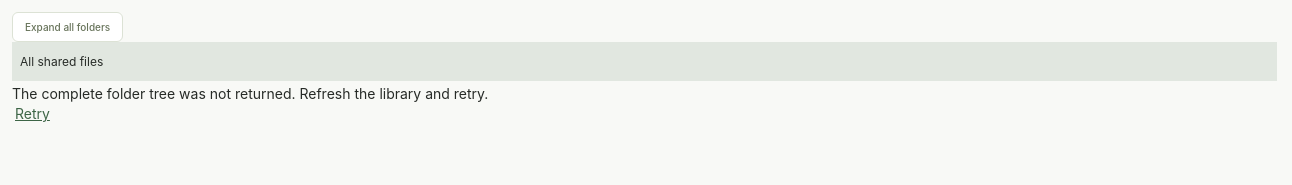
Test: rejects incomplete listings and retries the complete request
The width and height of the screenshot is (1292, 185).
Expected: the message shows "complete folder tree was not returned", [12,85,488,102]
What coordinates should you click on to do the following:
click the button "Retry"
I would click on:
 (32, 114)
Its box is [12,102,53,125].
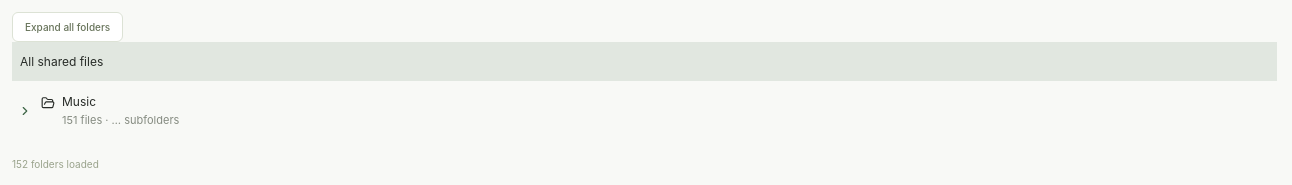
Result: the button titled "Music" is shown at [37,85,1277,136]
